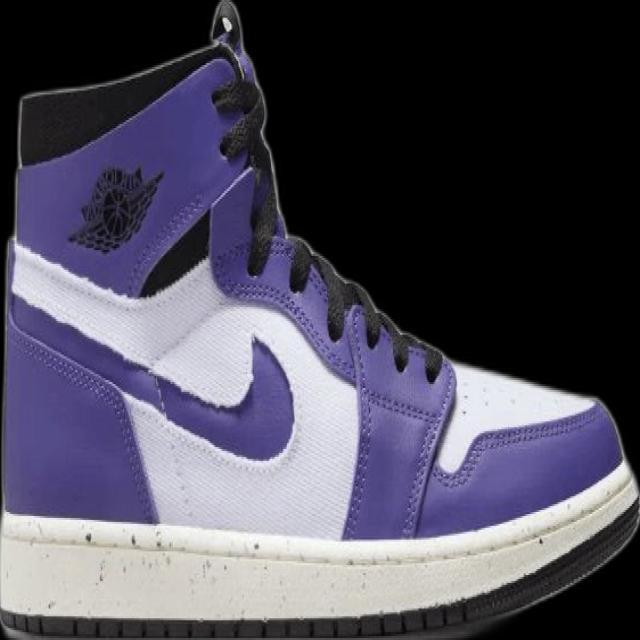J1_InsoleChar: (0, 0, 639, 639)
J1_ShoeLogo: (66, 162, 165, 255)
J1_StitchPattern: (0, 479, 639, 639), (208, 40, 447, 386), (7, 315, 160, 519), (339, 301, 455, 540), (281, 231, 446, 384), (209, 42, 285, 278), (1, 605, 474, 639), (340, 301, 377, 540), (283, 233, 359, 339), (371, 310, 446, 384)
